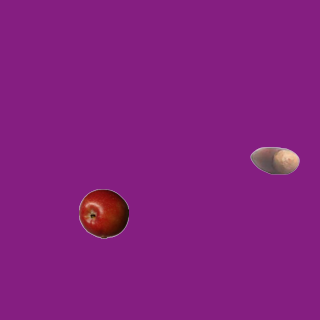Apple Braeburn: (78, 188, 128, 238)
Hazelnut: (249, 135, 299, 185)
